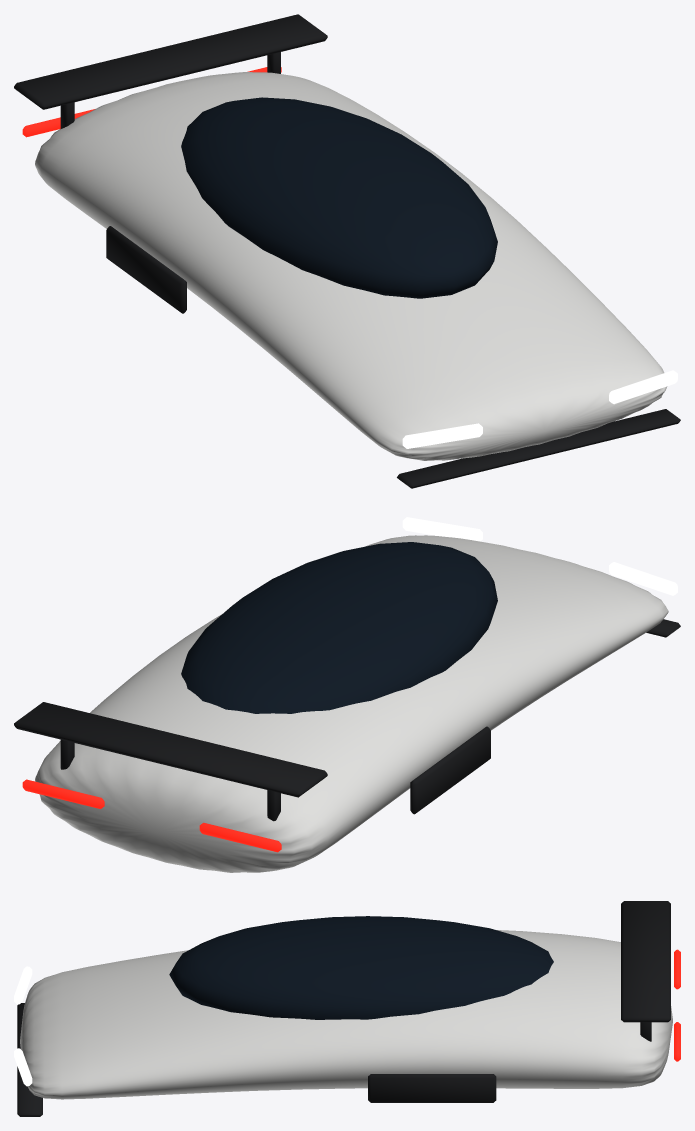
The model's file is car_super.glb.
3 renders of one model, top to bottom at view 1: azimuth 30°, elevation 25°; view 2: azimuth 150°, elevation 25°; view 3: azimuth 270°, elevation 25°, orthographic. The views are drawn at different scales.
Visible parts, largest first — view 1: Body, Canopy, Wing, Splitter, Intake-1, HeadL-1, HeadL1; view 2: Body, Canopy, Wing, Intake-1, HeadL1, HeadL-1, TailL1, TailL-1; view 3: Body, Canopy, Wing, Intake1, Splitter, HeadL-1, HeadL1.
Boxes of the visible parts, x1,y1,x2,y2 form: Body: (35,72,667,460); Canopy: (181,97,497,298); Wing: (14,14,327,109); Splitter: (397,409,680,488); Intake-1: (106,226,186,313); HeadL-1: (402,423,482,448); HeadL1: (609,370,677,404); Body: (35,535,668,872); Canopy: (181,542,497,713); Wing: (14,702,327,797); Intake-1: (410,726,490,814); HeadL1: (402,517,482,541); HeadL-1: (609,562,677,595); TailL1: (22,779,104,808); TailL-1: (199,822,281,852); Body: (20,930,672,1099); Canopy: (169,916,553,1019); Wing: (621,901,670,1022); Intake1: (368,1074,496,1102); Splitter: (17,1003,42,1116); HeadL-1: (14,966,32,1004); HeadL1: (14,1048,32,1086).
Size of the model in its own units: 2.11 by 0.977 by 4.68.
